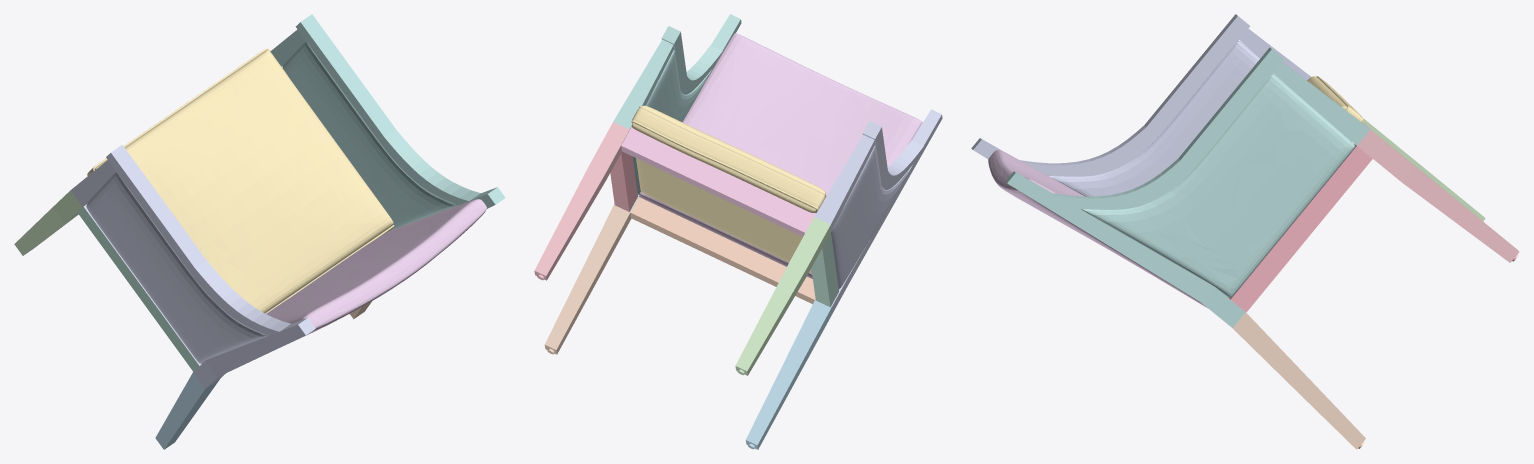
Rendered from 0c409bce_colored.glb.
3 renders of one model, left to right at view 1: azimuth 30°, elevation 25°; view 2: azimuth 150°, elevation 25°; view 3: azimuth 270°, elevation 25°, orthographic. The views are drawn at different scales.
Parts seen in each view (by area): view 1: world; view 2: world; view 3: world.
Boxes of the visible parts, x1,y1,x2,y2 form: world: (14, 14, 505, 449); world: (534, 14, 942, 449); world: (971, 14, 1519, 449).
Size of the model in its own units: 0.6652 by 0.8572 by 0.9991.
